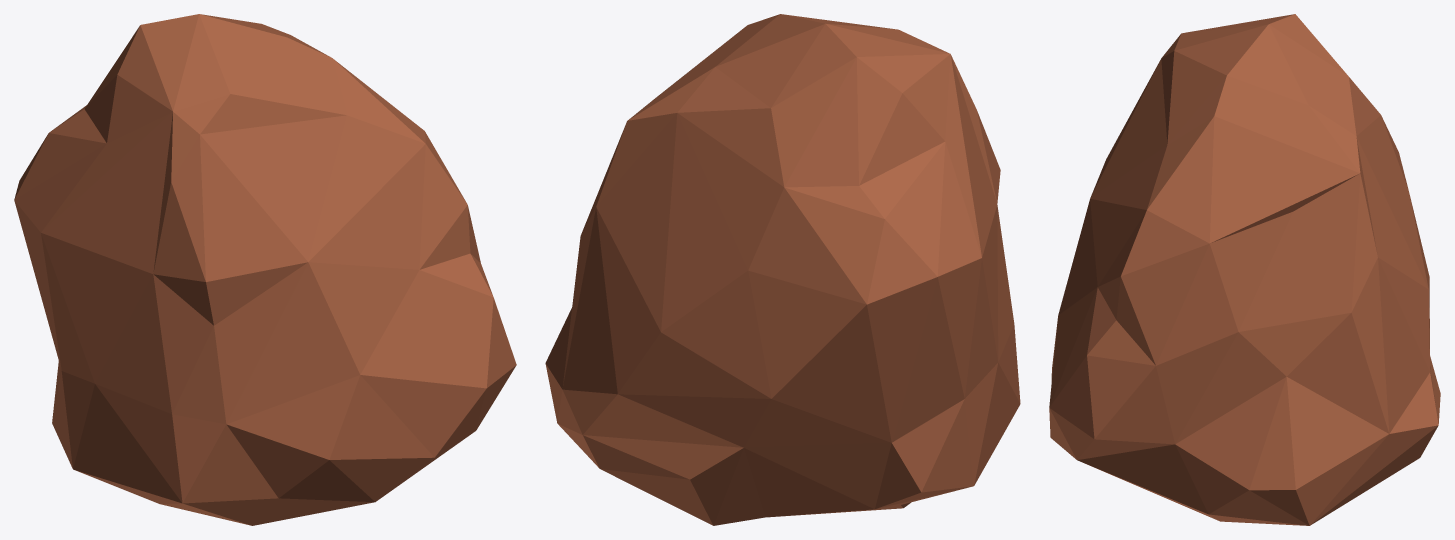
File: boulder_rock1.glb
3 views of the same model, side by side, from view 1: azimuth 30°, elevation 25°; view 2: azimuth 150°, elevation 25°; view 3: azimuth 270°, elevation 25° (orthographic). The views are drawn at different scales.
Visible parts, largest first — view 1: boulder_rock1; view 2: boulder_rock1; view 3: boulder_rock1.
Part boxes in pixels (left/top/right/bottom): boulder_rock1: left=14, top=14, right=516, bottom=525; boulder_rock1: left=545, top=14, right=1020, bottom=525; boulder_rock1: left=1049, top=14, right=1440, bottom=525.
Size of the model in its own units: 11.85 by 12.85 by 10.58.
